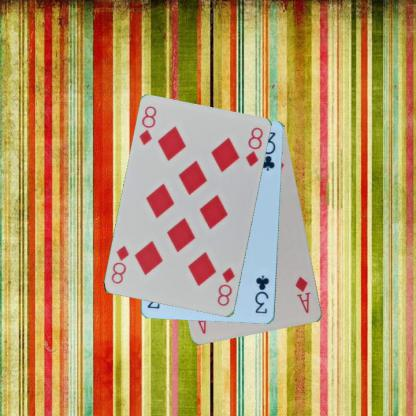3c: (252, 273, 271, 315)
8d: (136, 103, 158, 147), (214, 265, 236, 308)
Ad: (293, 274, 312, 315)
